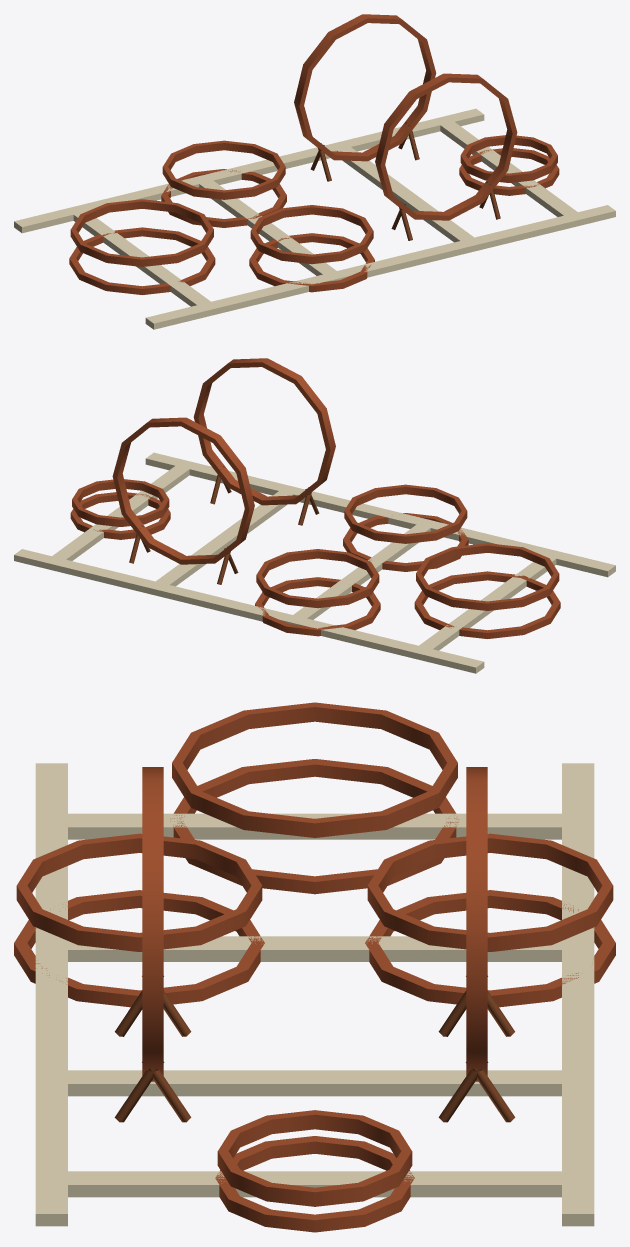
Rendered from u500_cradle.obj.
3 renders of one model, top to bottom at view 1: azimuth 30°, elevation 25°; view 2: azimuth 150°, elevation 25°; view 3: azimuth 270°, elevation 25°, orthographic. The views are drawn at different scales.
Parts seen in each view (by area): view 1: u500_cradle; view 2: u500_cradle; view 3: u500_cradle.
Boxes of the visible parts, bbox=[...] form: u500_cradle: bbox=[14, 14, 615, 329]; u500_cradle: bbox=[14, 358, 615, 673]; u500_cradle: bbox=[14, 702, 615, 1232].
Size of the model in its own units: 8.09 by 2.52 by 4.46.
